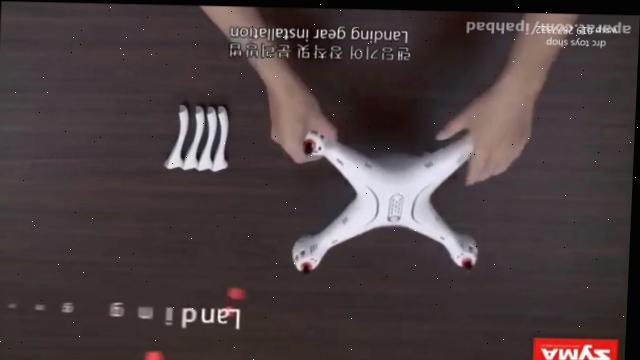drone: (285, 124, 484, 280)
